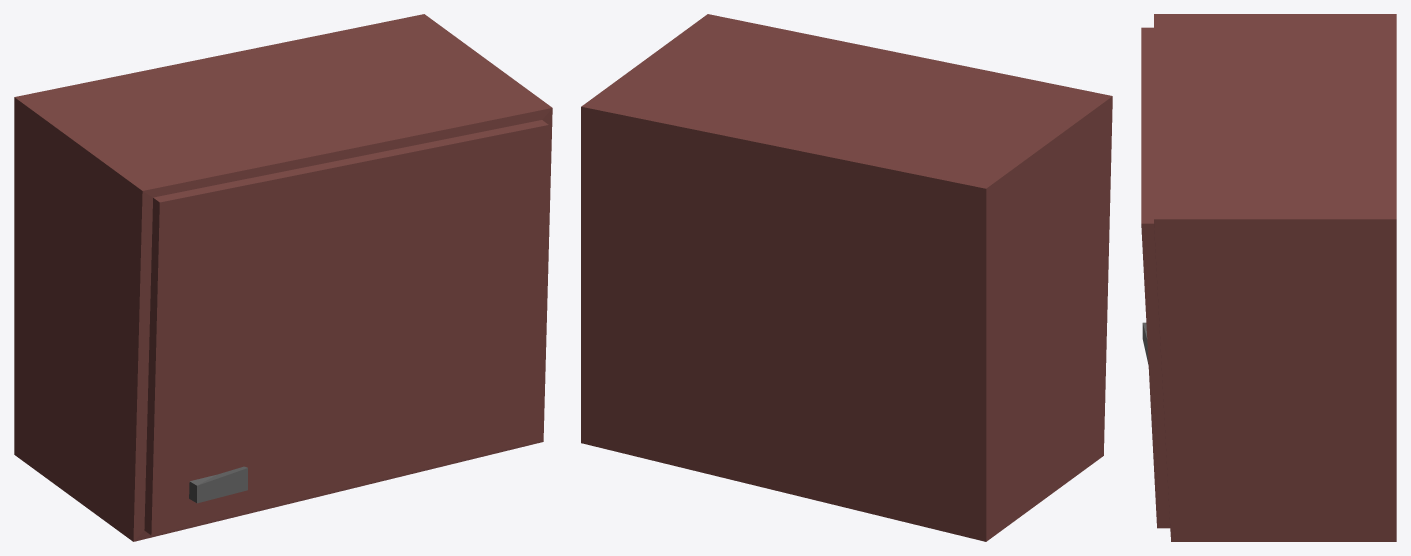
File: KitchenCupboard.glb
3 views of the same model, side by side, from view 1: azimuth 30°, elevation 25°; view 2: azimuth 150°, elevation 25°; view 3: azimuth 270°, elevation 25° (orthographic). The views are drawn at different scales.
Visible parts, largest first — view 1: KitchenCupboard; view 2: KitchenCupboard; view 3: KitchenCupboard.
Boxes of the visible parts, left/top/right/bottom form: KitchenCupboard: left=14, top=14, right=552, bottom=541; KitchenCupboard: left=581, top=14, right=1112, bottom=541; KitchenCupboard: left=1141, top=14, right=1396, bottom=541.
Bounding box in the file's own units: 0.6 × 0.5 × 0.3419.
